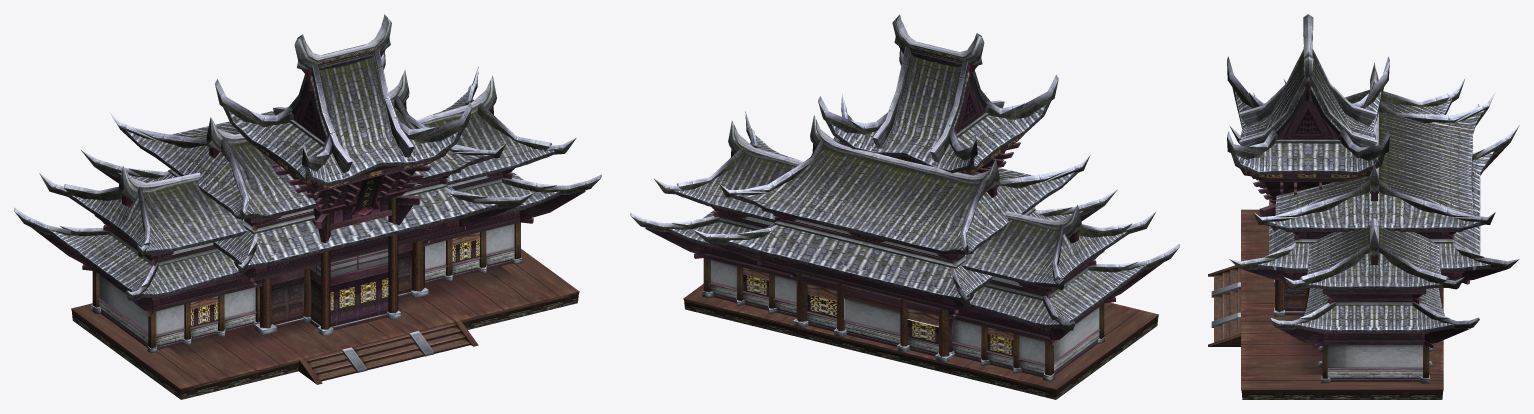
Rendered from xcz_jz_02_LOD1.FBX.
3 renders of one model, left to right at view 1: azimuth 30°, elevation 25°; view 2: azimuth 150°, elevation 25°; view 3: azimuth 270°, elevation 25°, orthographic. The views are drawn at different scales.
Parts seen in each view (by area): view 1: xcz_jz_02_LOD1; view 2: xcz_jz_02_LOD1; view 3: xcz_jz_02_LOD1.
Boxes of the visible parts, box(x1,y1,x2,y2) form: xcz_jz_02_LOD1: box(14, 14, 601, 399); xcz_jz_02_LOD1: box(630, 14, 1179, 399); xcz_jz_02_LOD1: box(1208, 14, 1519, 399).
Size of the model in its own units: 4902 by 2970 by 3009.
